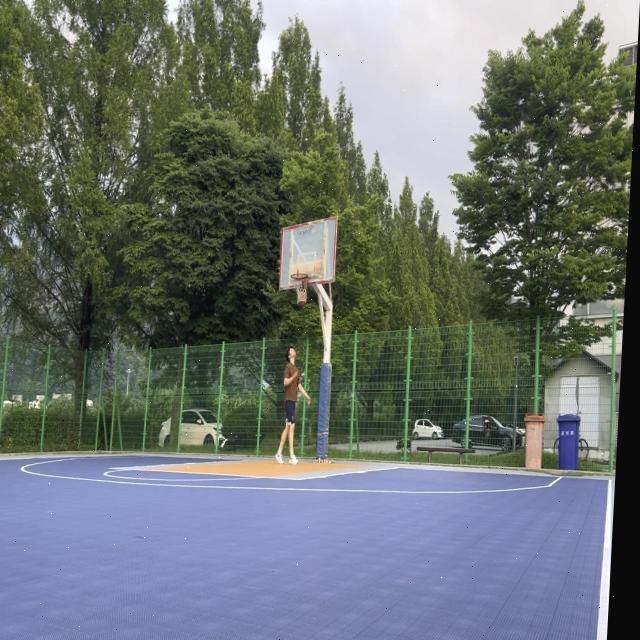basketball: (297, 290, 307, 308)
hoop: (289, 273, 309, 308), (289, 272, 309, 306)
